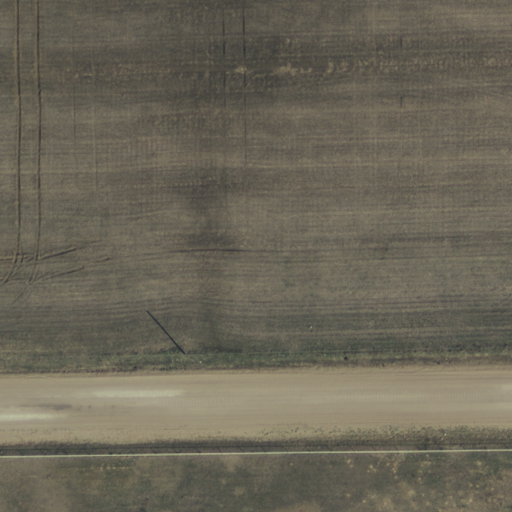DT: (173, 343, 199, 368)
